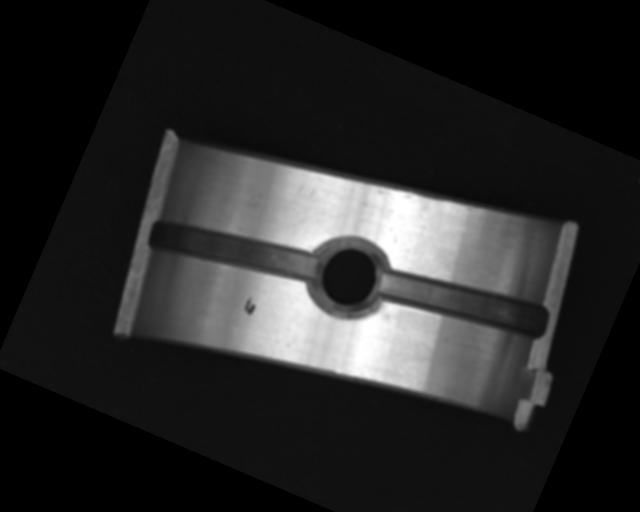blot: (241, 295, 258, 317)
gap: (370, 241, 553, 363), (146, 189, 323, 309)
hole: (300, 227, 393, 323)
